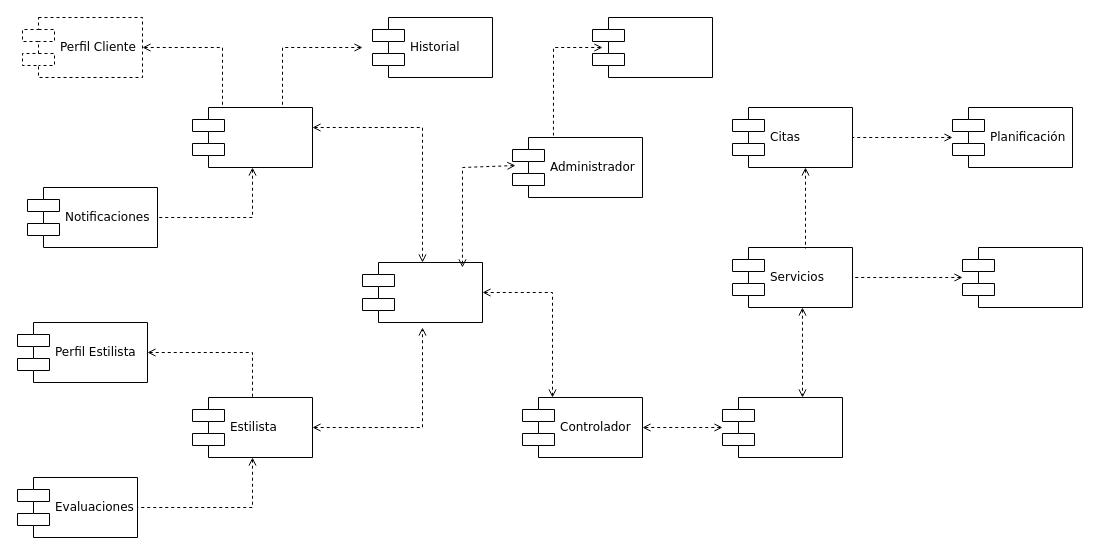
This 1100x555 diagram has some shape labels left out. Each missing label, with the box of its shape:
Catálogos: (962, 246, 1082, 308)
Cliente: (192, 106, 312, 168)
Gestión de Perfiles: (592, 16, 712, 78)
Gestor Base Datos: (722, 396, 842, 458)
Servicio Web: (362, 262, 482, 322)
